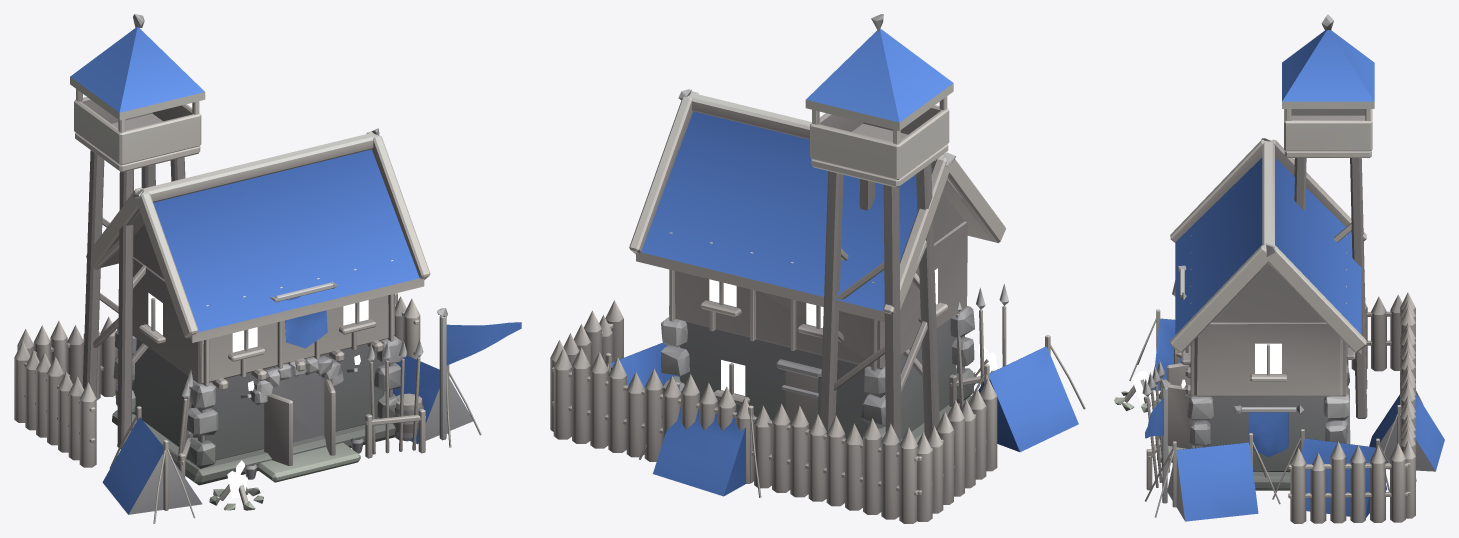
Rendered from barracks_2_10.glb.
The picture shows the model from 3 angles, left to right: view 1: azimuth 30°, elevation 25°; view 2: azimuth 150°, elevation 25°; view 3: azimuth 270°, elevation 25°; orthographic projection. The views are drawn at different scales.
Parts seen in each view (by area): view 1: Tower; view 2: Tower; view 3: Tower.
Boxes of the visible parts, left/top/right/bottom form: Tower: left=14, top=14, right=521, bottom=523; Tower: left=550, top=14, right=1085, bottom=523; Tower: left=1114, top=14, right=1444, bottom=523.
Bounding box in the file's own units: 5.17 × 5.4 × 4.15.
